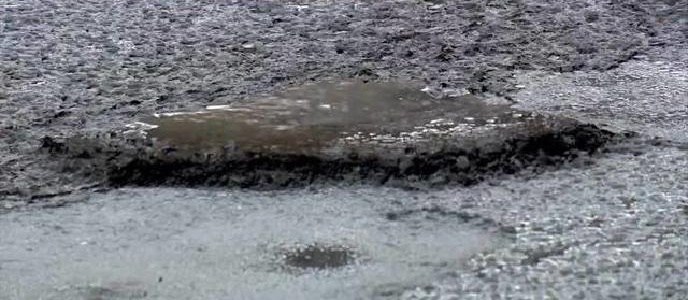pothole: (32, 70, 643, 198), (274, 243, 361, 279)
